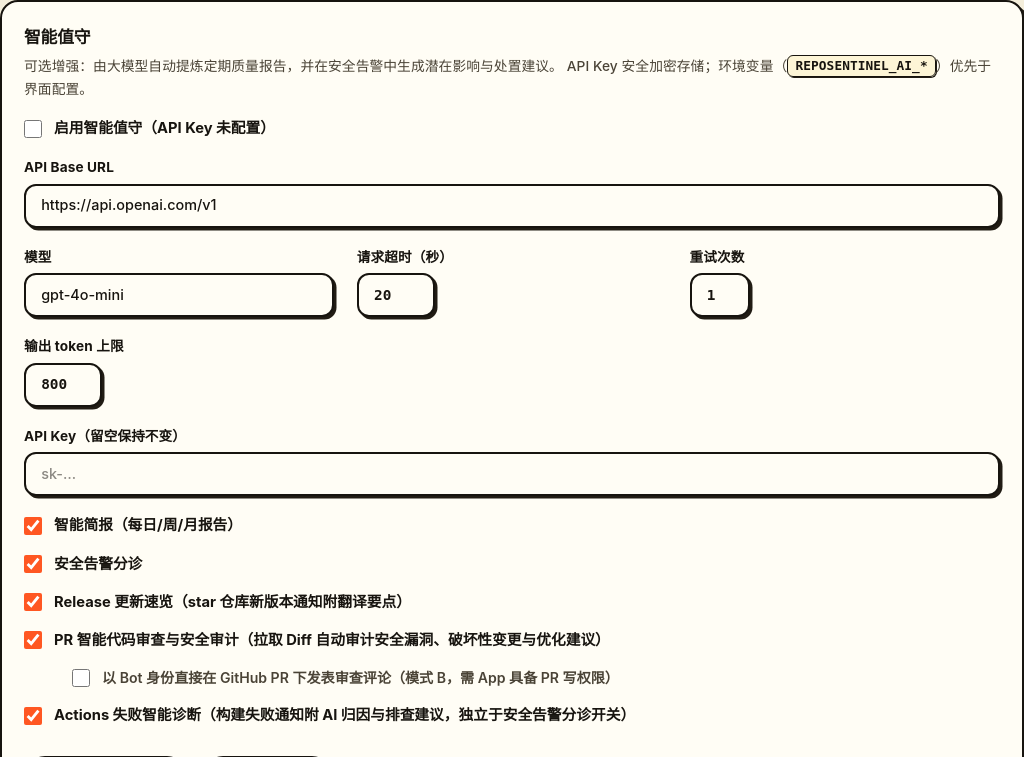
设置页 › 输出 token 上限失焦时钳到合法范围
The width and height of the screenshot is (1024, 757).
(page scrolled)
Replace the text in the number field labelled "输出 token 上限" with "50" at {"x": 63, "y": 385}, box [24,363,102,407]
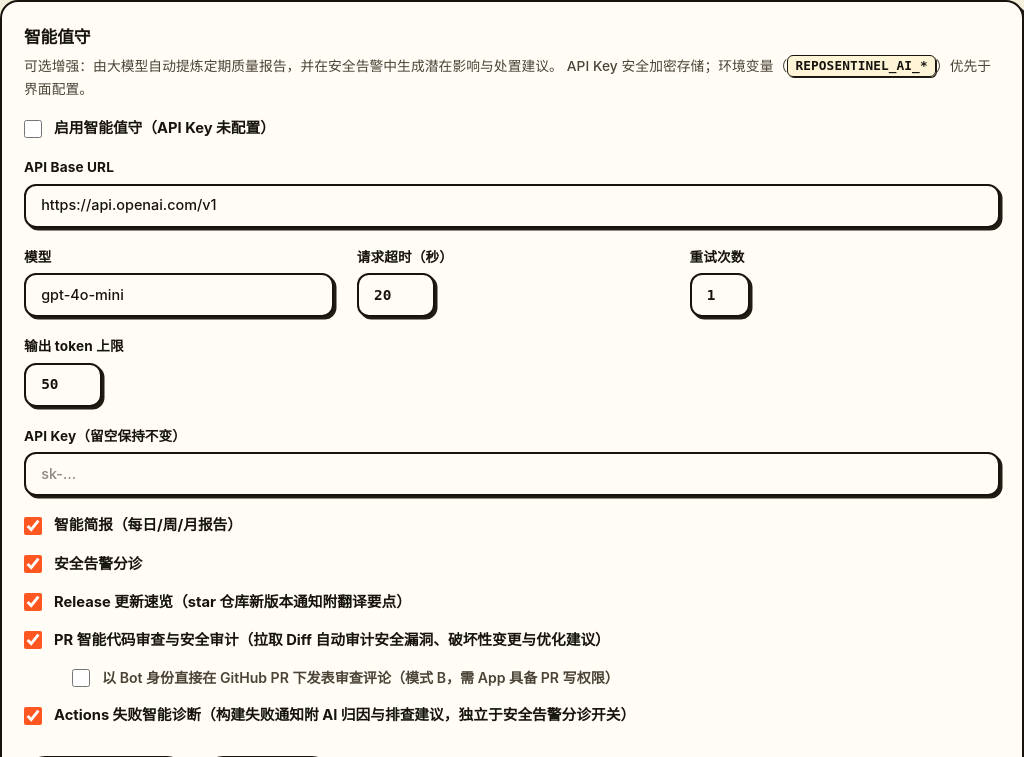
Leave the number field labelled "输出 token 上限", box [24,363,102,407]
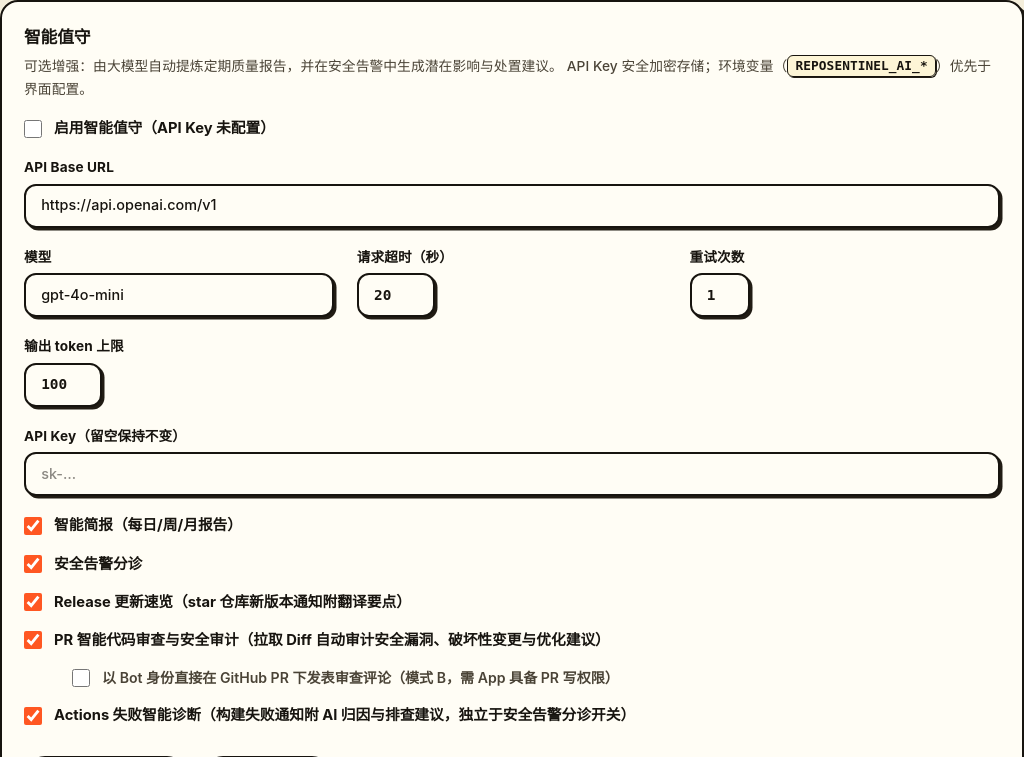
Expected: the number field labelled "输出 token 上限" holds "100", [24,363,102,407]
